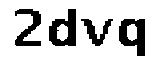2: (13, 5, 43, 50)
d: (48, 7, 79, 50)
q: (119, 15, 149, 59)
v: (80, 14, 114, 49)
